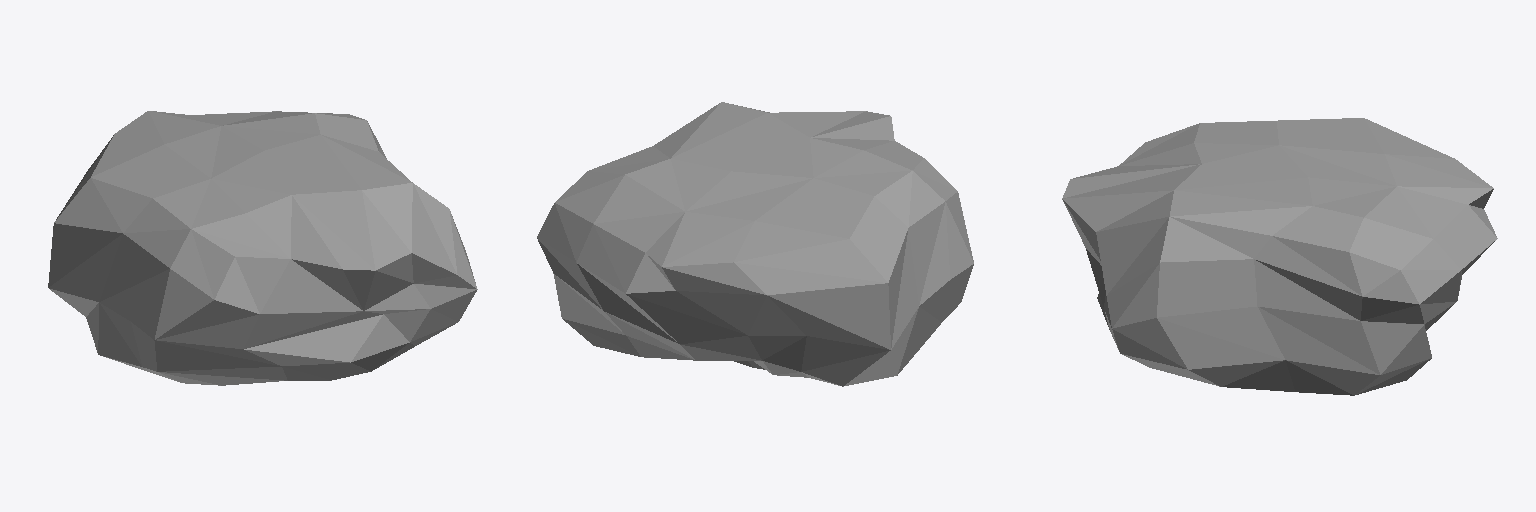
The model's file is piedra1.obj.
3 views of the same model, side by side, from view 1: azimuth 30°, elevation 25°; view 2: azimuth 150°, elevation 25°; view 3: azimuth 270°, elevation 25° (orthographic).
Visible parts, largest first — view 1: Cube; view 2: Cube; view 3: Cube.
Part boxes in pixels (x1,y1,x2,y2): Cube: (48, 111, 477, 385); Cube: (537, 102, 973, 386); Cube: (1062, 118, 1497, 395).
Size of the model in its own units: 19.29 by 10.2 by 21.98.